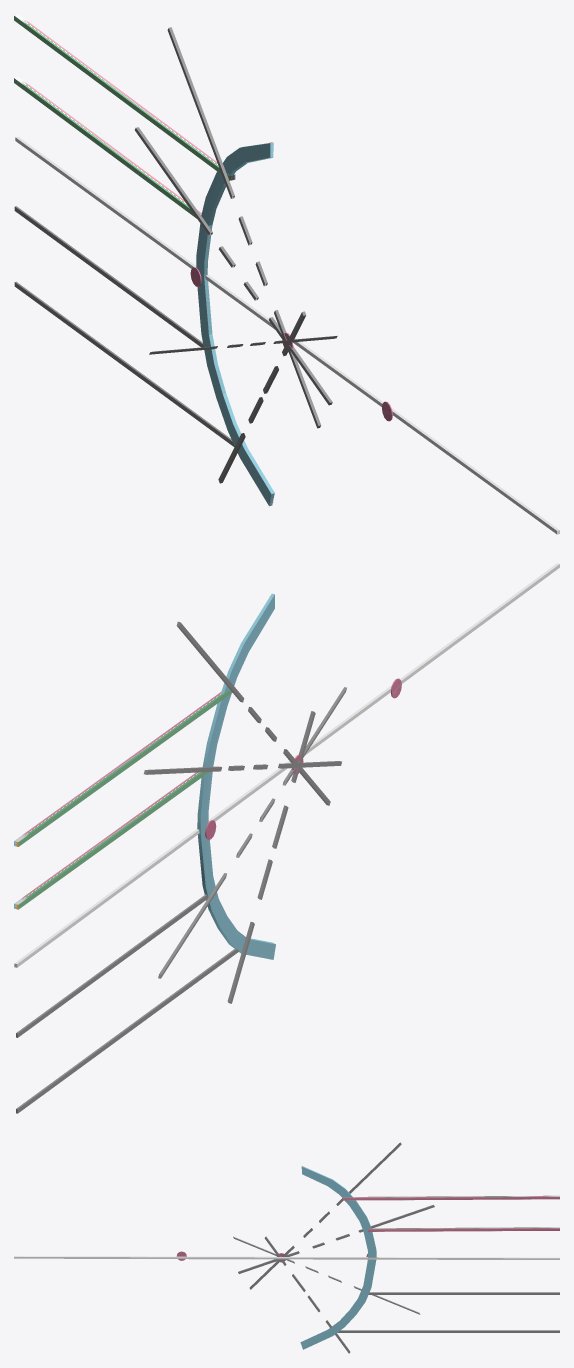
File: last17.fbx
3 views of the same model, one above another, from view 1: azimuth 30°, elevation 25°; view 2: azimuth 150°, elevation 25°; view 3: azimuth 270°, elevation 25° (orthographic). The views are drawn at different scales.
Parts seen in each view (by area): view 1: para17; view 2: para17; view 3: para17.
Boxes of the visible parts, <box> form: para17: <box>14,14,559,534</box>; para17: <box>14,563,559,1113</box>; para17: <box>14,1142,559,1353</box>.
Size of the model in its own units: 1.22 by 44.33 by 104.
2 materials, 1 textured.
